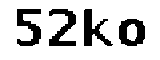2: (46, 6, 79, 50)
5: (13, 7, 43, 47)
k: (83, 7, 115, 50)
o: (118, 17, 148, 50)
